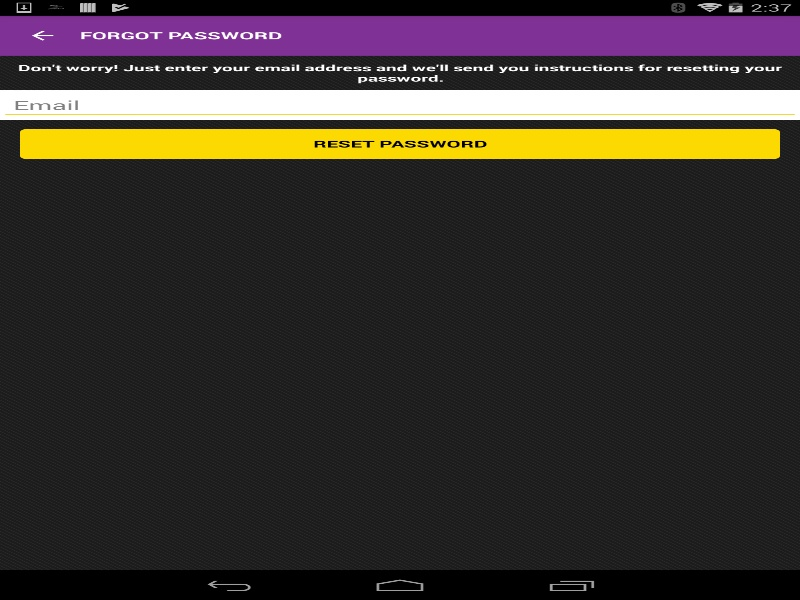Button: (20, 129, 780, 159), (0, 18, 74, 53)
Input: (0, 90, 800, 119)
